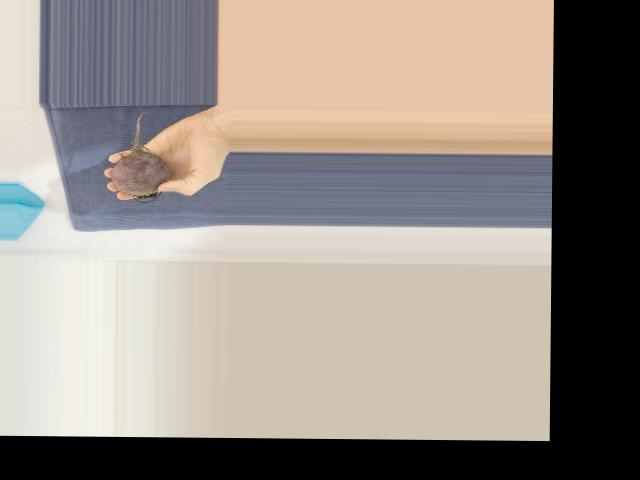beet: (110, 111, 170, 202)
